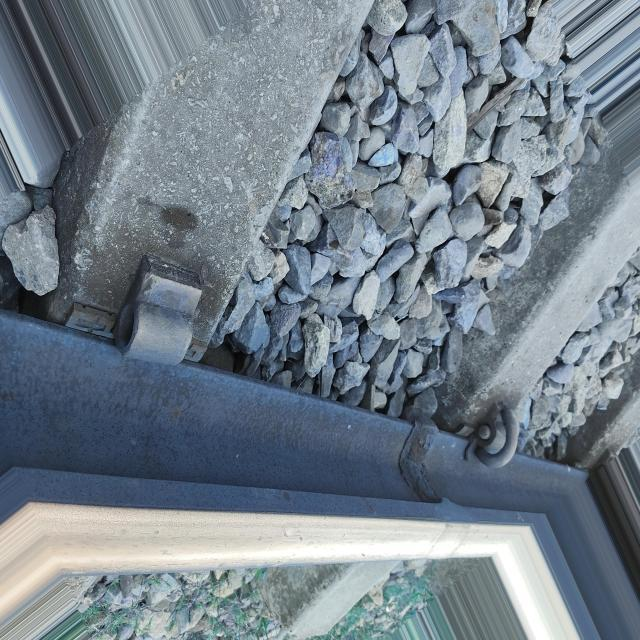Good Fasteners: (465, 407, 520, 469)
Missing Fastener: (102, 227, 220, 403)
